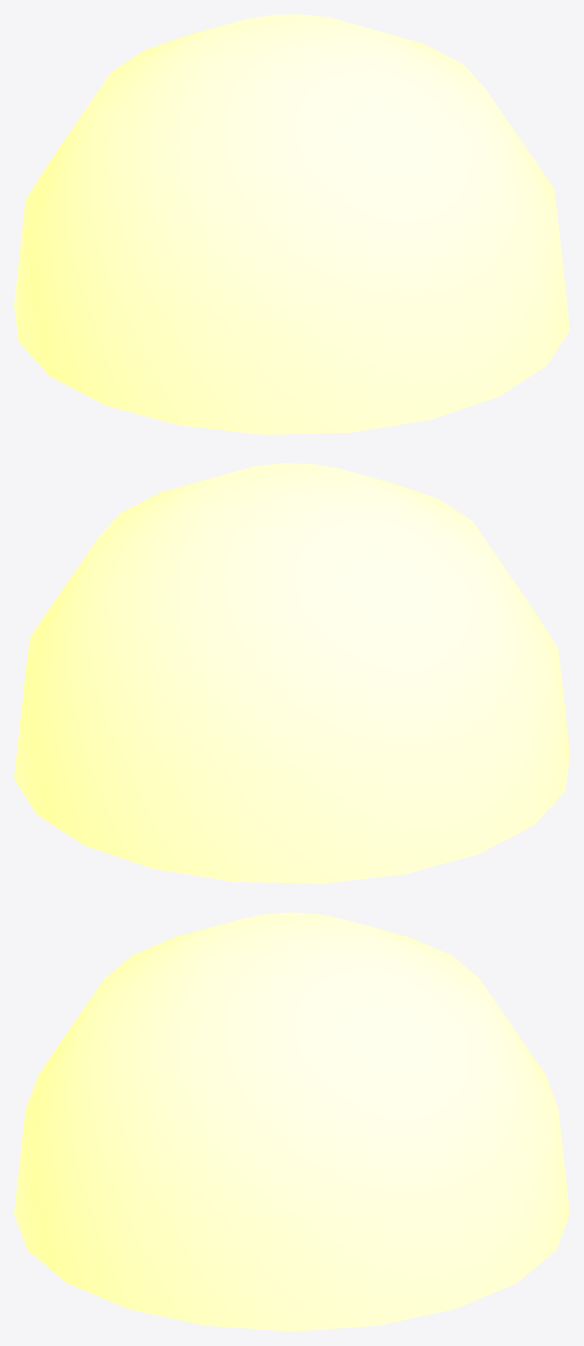
The model's file is GlowDrop_Yellow.fbx.
3 views of the same model, one above another, from view 1: azimuth 30°, elevation 25°; view 2: azimuth 150°, elevation 25°; view 3: azimuth 270°, elevation 25° (orthographic).
Visible parts, largest first — view 1: GlowDrop_Yellow; view 2: GlowDrop_Yellow; view 3: GlowDrop_Yellow.
Boxes of the visible parts, x1,y1,x2,y2 form: GlowDrop_Yellow: (14, 14, 569, 434); GlowDrop_Yellow: (14, 463, 569, 883); GlowDrop_Yellow: (14, 912, 569, 1331).
Size of the model in its own units: 2.4 by 1.3 by 2.4.
